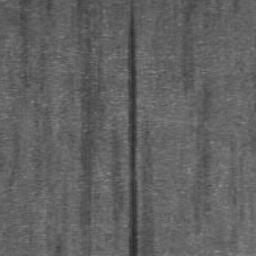Scratches: (128, 1, 139, 256)
